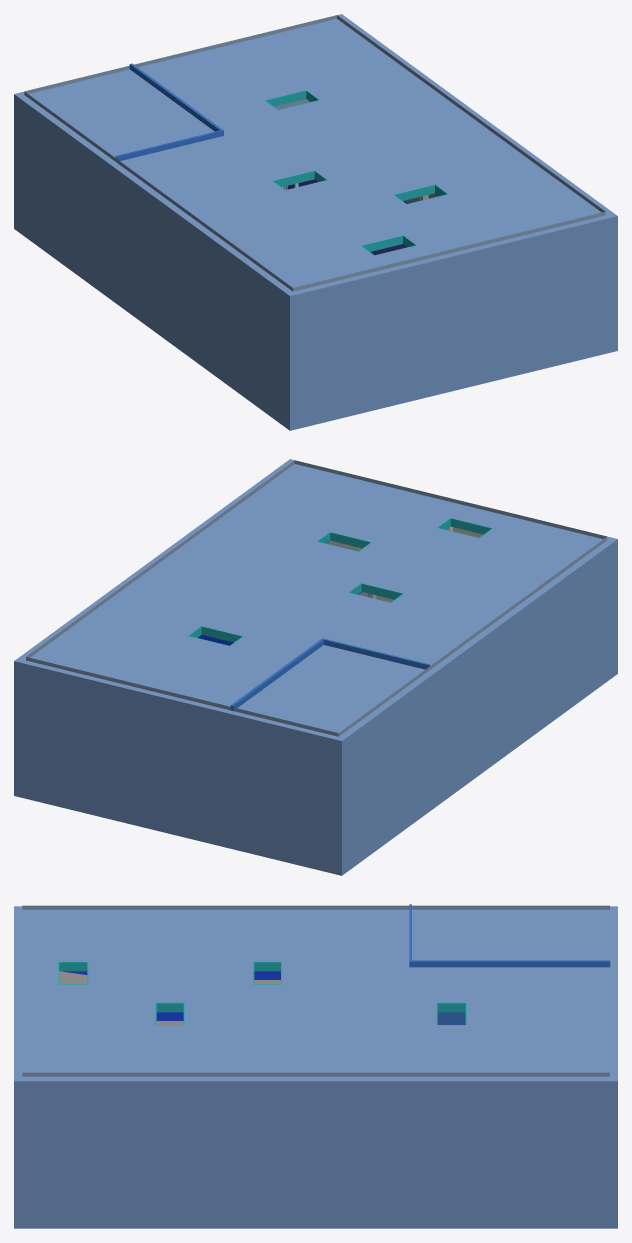
Rendered from vrp_hala_rozmerytest3.FBX.
3 views of the same model, one above another, from view 1: azimuth 30°, elevation 25°; view 2: azimuth 150°, elevation 25°; view 3: azimuth 270°, elevation 25° (orthographic). The views are drawn at different scales.
Parts seen in each view (by area): view 1: strechaStrop, zdi, okna, zdiKancl; view 2: strechaStrop, zdi, okna, zdiKancl; view 3: strechaStrop, zdi, zdiKancl, okna, stropniTramy.
Boxes of the visible parts, x1=… form: strechaStrop: x1=14, y1=14, x2=617, y2=430; zdi: x1=24, y1=15, x2=605, y2=291; okna: x1=264, y1=90, x2=448, y2=255; zdiKancl: x1=115, y1=63, x2=223, y2=160; strechaStrop: x1=14, y1=459, x2=617, y2=875; zdi: x1=26, y1=460, x2=607, y2=736; okna: x1=188, y1=518, x2=492, y2=646; zdiKancl: x1=230, y1=638, x2=429, y2=710; strechaStrop: x1=14, y1=906, x2=617, y2=1228; zdi: x1=22, y1=905, x2=609, y2=1076; zdiKancl: x1=409, y1=904, x2=610, y2=1024; okna: x1=58, y1=962, x2=466, y2=1025; stropniTramy: x1=62, y1=971, x2=280, y2=1020.
Bounding box in the file's own units: 25.67 × 10.53 × 37.43.
